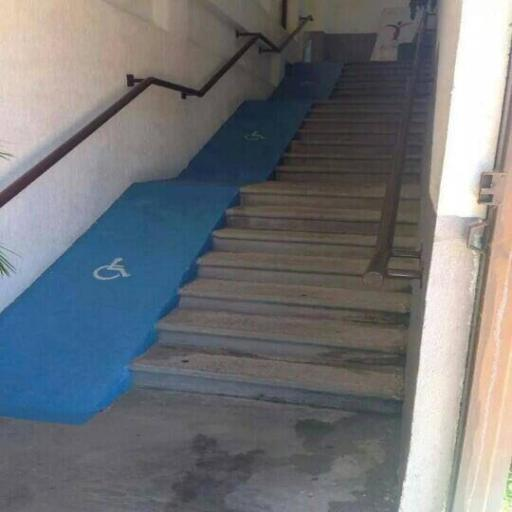entrance: (0, 62, 341, 423)
laptop: (131, 63, 427, 433)
